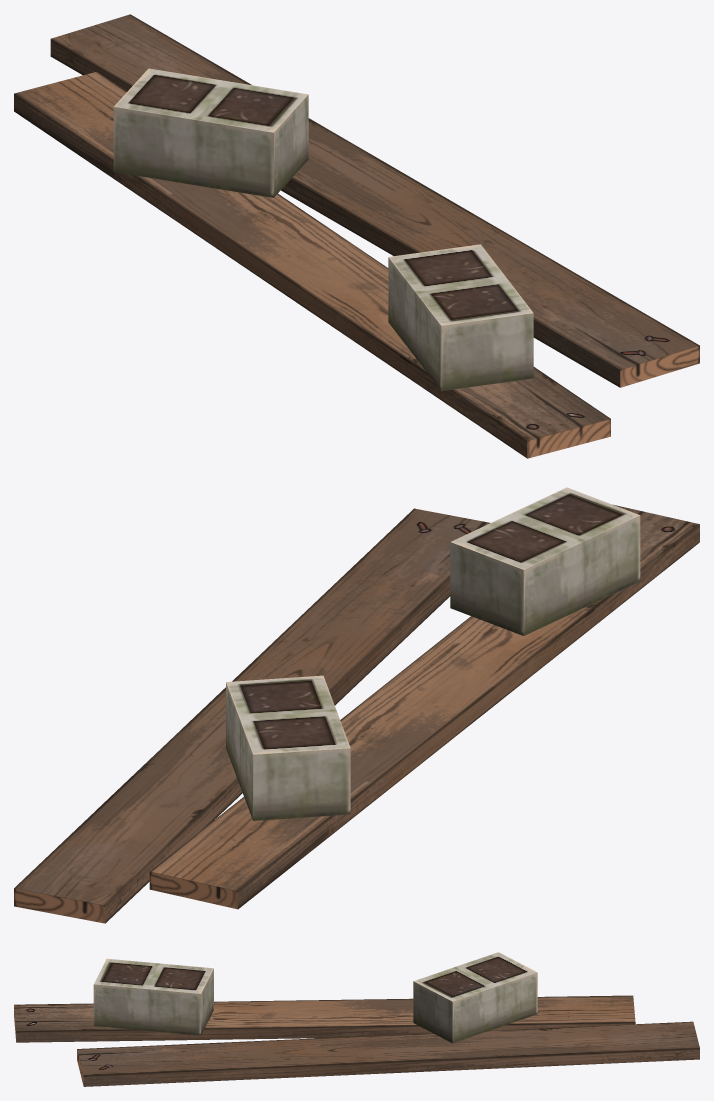
Rendered from raisedBed_dressing01.fbx.
The picture shows the model from 3 angles, top to bottom: view 1: azimuth 30°, elevation 25°; view 2: azimuth 150°, elevation 25°; view 3: azimuth 270°, elevation 25°; orthographic projection. The views are drawn at different scales.
Visible parts, largest first — view 1: raisedBed_dressing01; view 2: raisedBed_dressing01; view 3: raisedBed_dressing01.
Part boxes in pixels (left/top/right/bottom): raisedBed_dressing01: left=14, top=14, right=699, bottom=458; raisedBed_dressing01: left=14, top=487, right=699, bottom=923; raisedBed_dressing01: left=14, top=952, right=699, bottom=1086.
Bounding box in the file's own units: 76.75 × 23.26 × 272.
